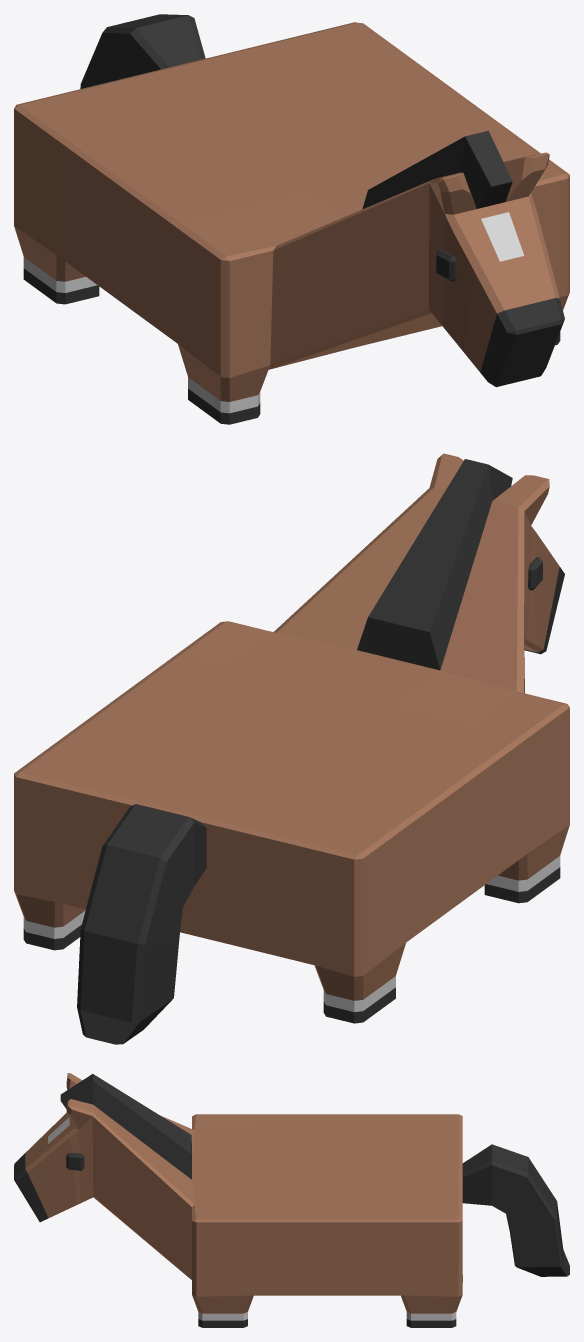
File: legsCowboy.fbx
The picture shows the model from 3 angles, top to bottom: view 1: azimuth 30°, elevation 25°; view 2: azimuth 150°, elevation 25°; view 3: azimuth 270°, elevation 25°; orthographic projection. The views are drawn at different scales.
Parts seen in each view (by area): view 1: Legs - Cowboy; view 2: Legs - Cowboy; view 3: Legs - Cowboy.
Part boxes in pixels (x1,y1,x2,y2): Legs - Cowboy: (14,14,569,424); Legs - Cowboy: (14,453,569,1044); Legs - Cowboy: (14,1073,569,1327).
Bounding box in the file's own units: 83.91 × 182 × 71.57.
